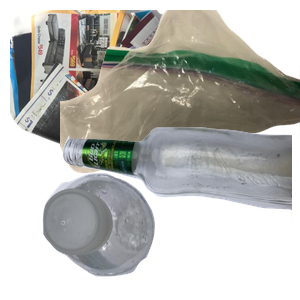glass: (60, 124, 300, 300)
paper: (10, 10, 250, 190)
plastic: (40, 170, 187, 300)
trash: (60, 10, 300, 176)
